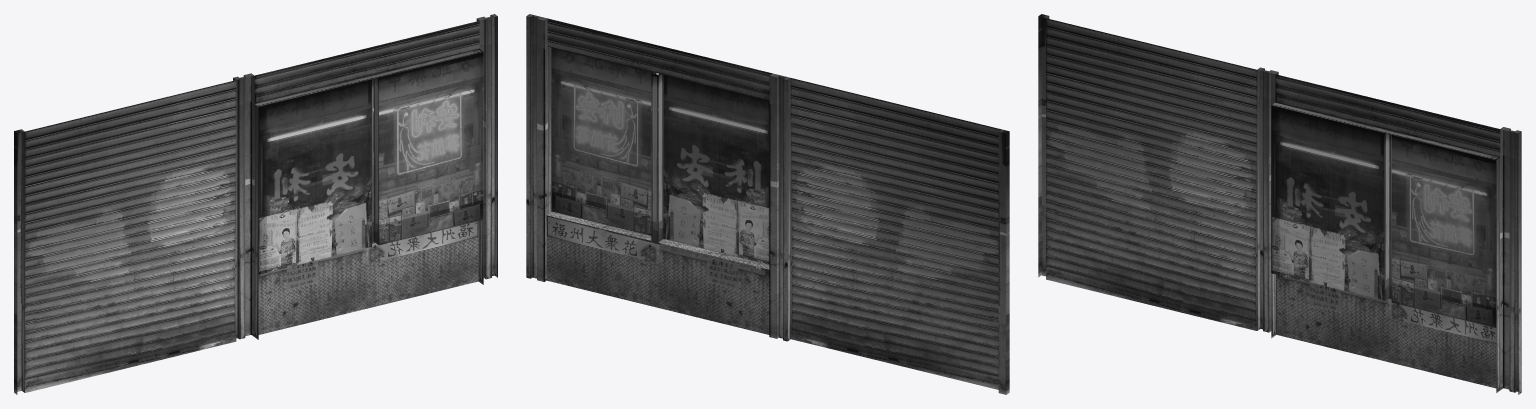
The model's file is testxyz.fbx.
3 renders of one model, left to right at view 1: azimuth 30°, elevation 25°; view 2: azimuth 150°, elevation 25°; view 3: azimuth 330°, elevation 25°, orthographic.
Visible parts, largest first — view 1: Plane351; view 2: Plane351; view 3: Plane351.
Part boxes in pixels (<box>): Plane351: <box>14,14,497,394</box>; Plane351: <box>526,14,1009,394</box>; Plane351: <box>1038,14,1521,394</box>.
Bounding box in the file's own units: 830 × 432 × 22.02.
1 material, 1 textured.
